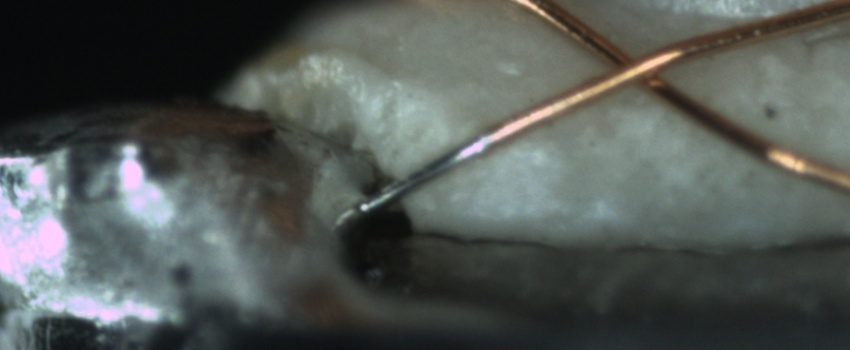CL: (583, 35, 686, 102)
TS: (359, 133, 493, 214)
TTCW: (356, 122, 509, 219)
